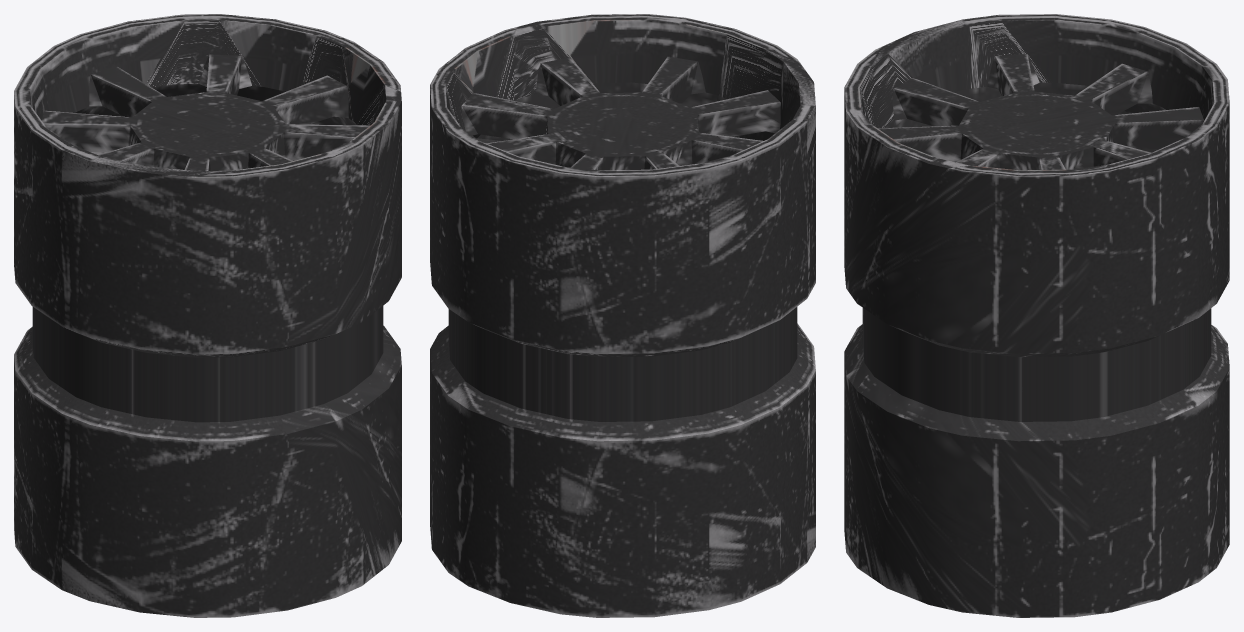
File: ME_medium_wheel.fbx
The picture shows the model from 3 angles, left to right: view 1: azimuth 30°, elevation 25°; view 2: azimuth 150°, elevation 25°; view 3: azimuth 270°, elevation 25°; orthographic projection.
Visible parts, largest first — view 1: ME_medium_wheel; view 2: ME_medium_wheel; view 3: ME_medium_wheel.
Part boxes in pixels (x1,y1,x2,y2): ME_medium_wheel: (14,14,401,617); ME_medium_wheel: (430,14,815,617); ME_medium_wheel: (844,14,1229,617).
Bounding box in the file's own units: 71.06 × 89.76 × 71.06.
